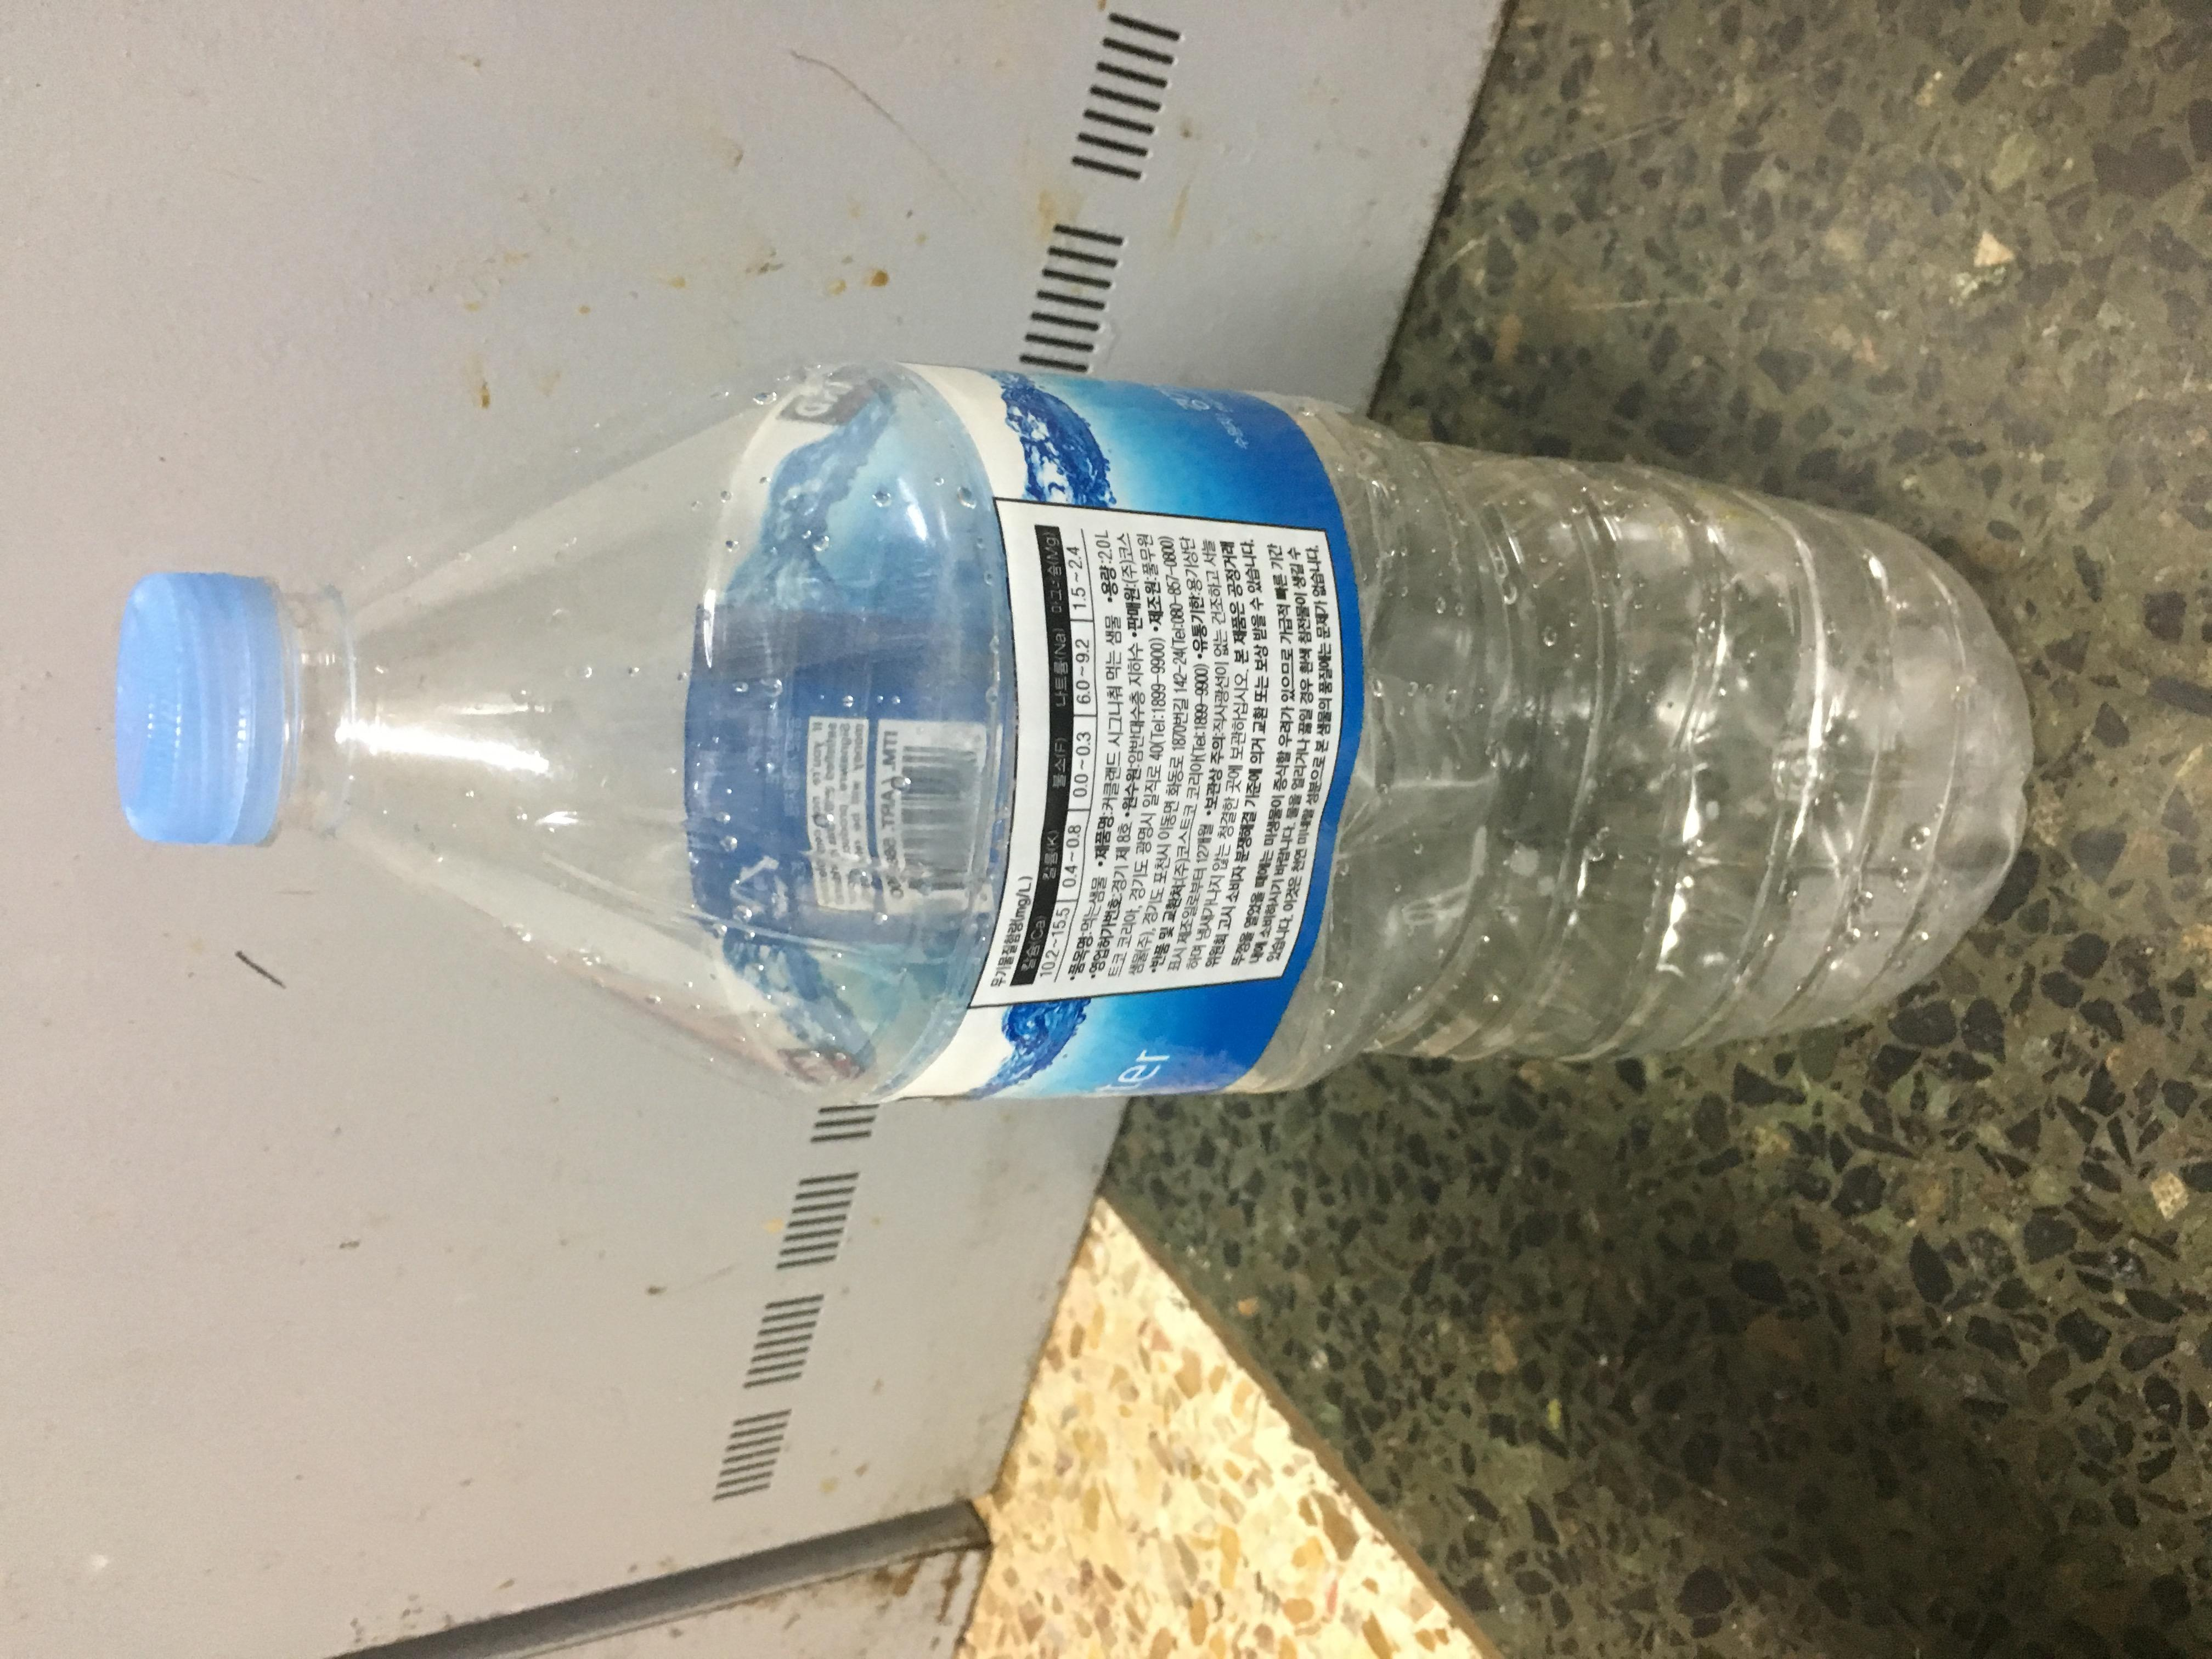bottle: (752, 721, 1730, 842)
